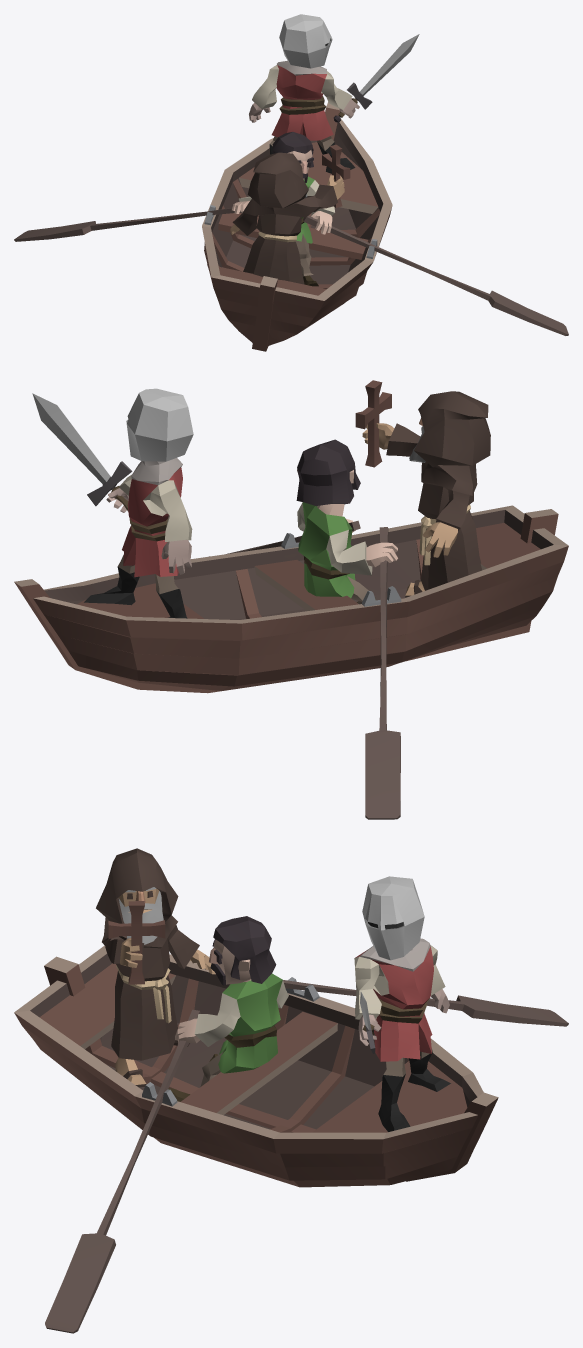
File: BoatWithKnight.gltf
3 views of the same model, one above another, from view 1: azimuth 30°, elevation 25°; view 2: azimuth 150°, elevation 25°; view 3: azimuth 270°, elevation 25° (orthographic). The views are drawn at different scales.
Parts seen in each view (by area): view 1: Object_67, Object_69, Object_73, Object_71, Object_75, Object_77, Object_81, Object_79; view 2: Object_67, Object_69, Object_73, Object_71, Object_77, Object_81, Object_79; view 3: Object_67, Object_69, Object_73, Object_71, Object_75, Object_77, Object_79.
Boxes of the visible parts, left/top/right/bottom form: Object_67: left=202, top=102, right=392, bottom=351; Object_69: left=249, top=14, right=359, bottom=173; Object_73: left=230, top=152, right=344, bottom=284; Object_71: left=232, top=132, right=334, bottom=286; Object_75: left=303, top=215, right=568, bottom=335; Object_77: left=14, top=208, right=240, bottom=241; Object_81: left=333, top=34, right=419, bottom=122; Object_79: left=322, top=144, right=350, bottom=207; Object_67: left=14, top=505, right=568, bottom=693; Object_69: left=84, top=388, right=193, bottom=618; Object_73: left=362, top=391, right=490, bottom=597; Object_71: left=296, top=439, right=397, bottom=604; Object_77: left=365, top=527, right=400, bottom=819; Object_81: left=32, top=393, right=132, bottom=511; Object_79: left=355, top=380, right=391, bottom=467; Object_67: left=14, top=945, right=498, bottom=1187; Object_69: left=354, top=876, right=450, bottom=1131; Object_73: left=96, top=848, right=215, bottom=1087; Object_71: left=168, top=916, right=288, bottom=1101; Object_75: left=45, top=1009, right=200, bottom=1333; Object_77: left=283, top=980, right=568, bottom=1026; Object_79: left=108, top=901, right=165, bottom=984.
Size of the model in its own units: 157 by 102 by 146.
7 materials, 5 textured.
